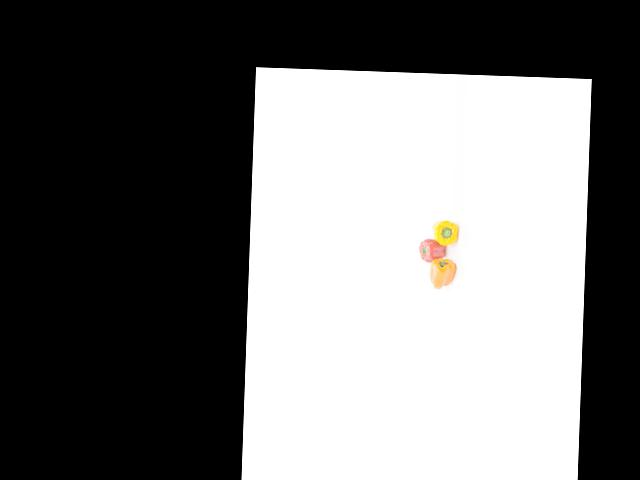bell_pepper: (430, 218, 459, 249)
